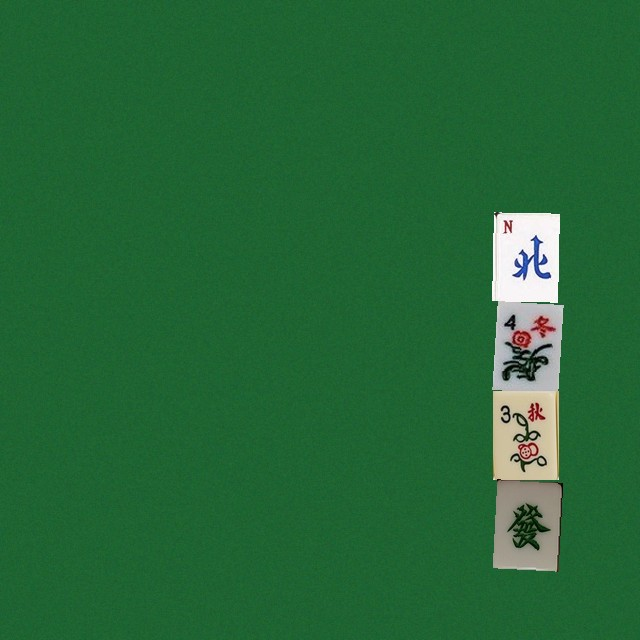tile: (492, 212, 558, 301), (492, 301, 558, 390), (492, 390, 558, 479), (492, 479, 558, 568)
